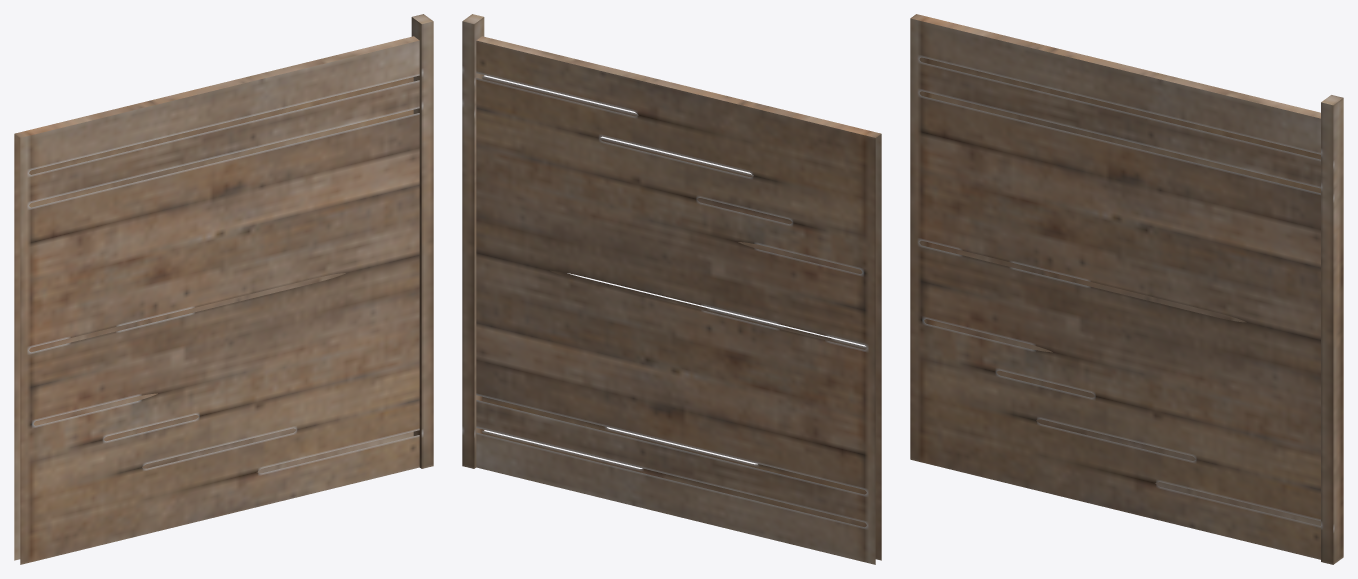
The model's file is FenceWoodPlanks03.obj.
3 views of the same model, side by side, from view 1: azimuth 30°, elevation 25°; view 2: azimuth 150°, elevation 25°; view 3: azimuth 330°, elevation 25° (orthographic). The views are drawn at different scales.
Visible parts, largest first — view 1: FenceWood03; view 2: FenceWood03; view 3: FenceWood03.
Part boxes in pixels (x1,y1,x2,y2): FenceWood03: (14, 14, 433, 564); FenceWood03: (462, 14, 881, 564); FenceWood03: (910, 14, 1343, 564).
Size of the model in its own units: 2.42 by 2.5 by 0.1024.
